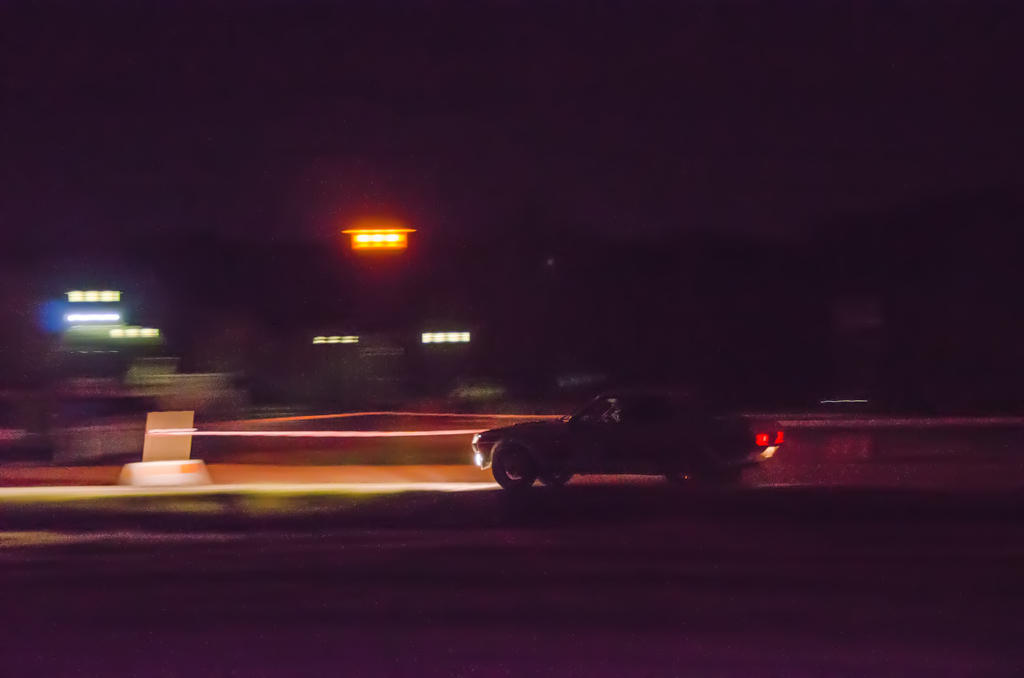car: (453, 379, 804, 512)
